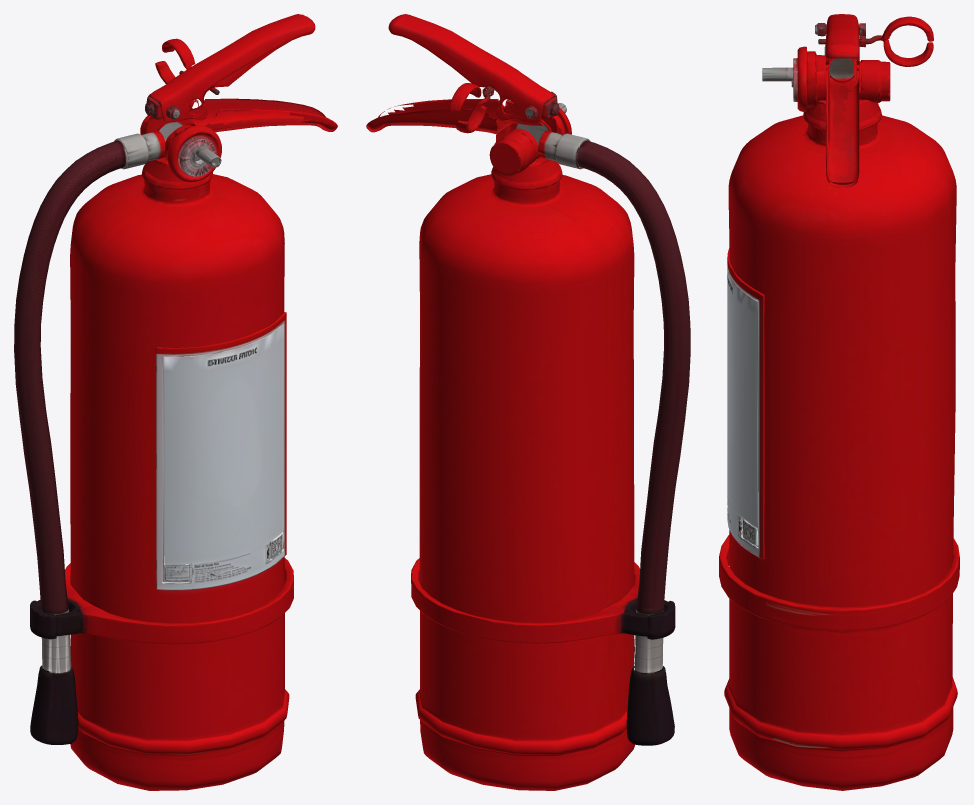
The model's file is toonstudio_fire_extinguisher.glb.
3 views of the same model, side by side, from view 1: azimuth 30°, elevation 25°; view 2: azimuth 150°, elevation 25°; view 3: azimuth 270°, elevation 25° (orthographic). The views are drawn at different scales.
Visible parts, largest first — view 1: caf3f94c_e6b8_4aa6_ad5c_9a8aff17506c; view 2: caf3f94c_e6b8_4aa6_ad5c_9a8aff17506c; view 3: caf3f94c_e6b8_4aa6_ad5c_9a8aff17506c.
Part boxes in pixels (left/top/right/bottom): caf3f94c_e6b8_4aa6_ad5c_9a8aff17506c: left=14, top=14, right=337, bottom=790; caf3f94c_e6b8_4aa6_ad5c_9a8aff17506c: left=366, top=14, right=690, bottom=790; caf3f94c_e6b8_4aa6_ad5c_9a8aff17506c: left=719, top=14, right=959, bottom=790.
Size of the model in its own units: 0.2338 by 0.5 by 0.1409.
Materials: 1 (1 with a texture image).
